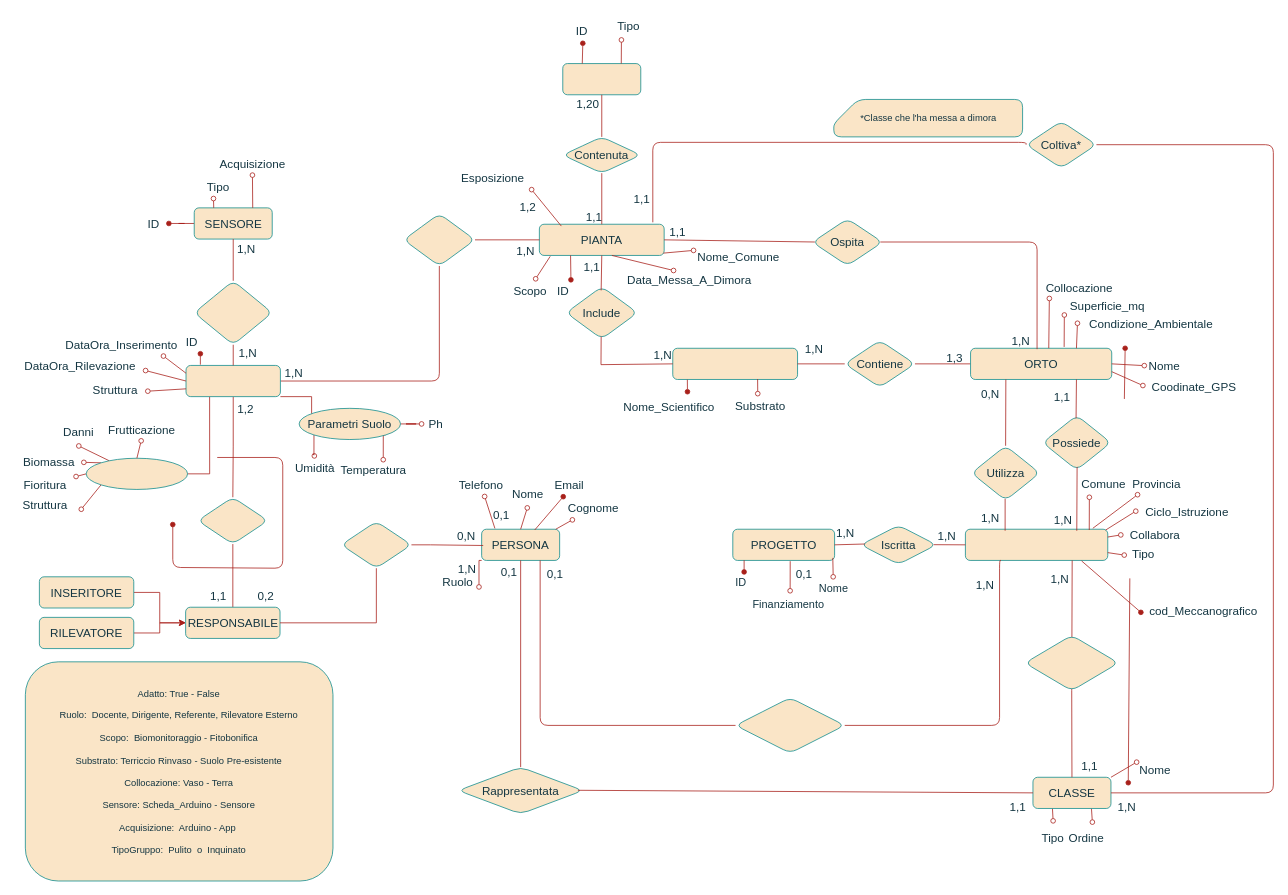
Image size: 1288x895. Some labels were removed from this diagram. Each missing label, with the box of its shape:
Afferisce: (1024, 635, 1119, 691)
Altre informazioni: (85, 457, 188, 489)
Appartiene: (735, 697, 845, 753)
Effettuata: (403, 213, 475, 266)
Esegue: (197, 496, 268, 544)
GRUPPO: (562, 63, 641, 95)
Identificato: (340, 521, 411, 568)
Rilevata: (193, 280, 272, 345)
RILEVAZIONE: (185, 365, 280, 397)
SCUOLA: (965, 528, 1108, 560)
SPECIE: (672, 347, 798, 379)
